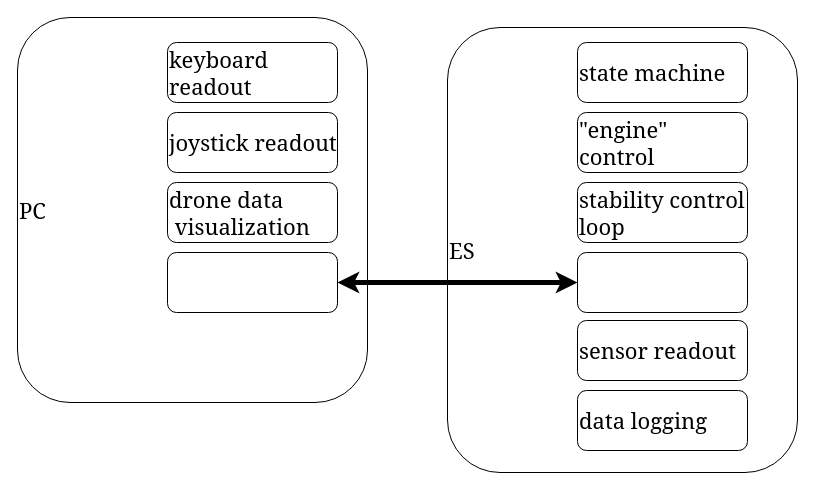
This 815x490 diagram has some shape labels left out. The centre of each missing label's shape, as x and y in pixels:
ES-communication: pixel 252 282
pc communication: pixel 662 282
